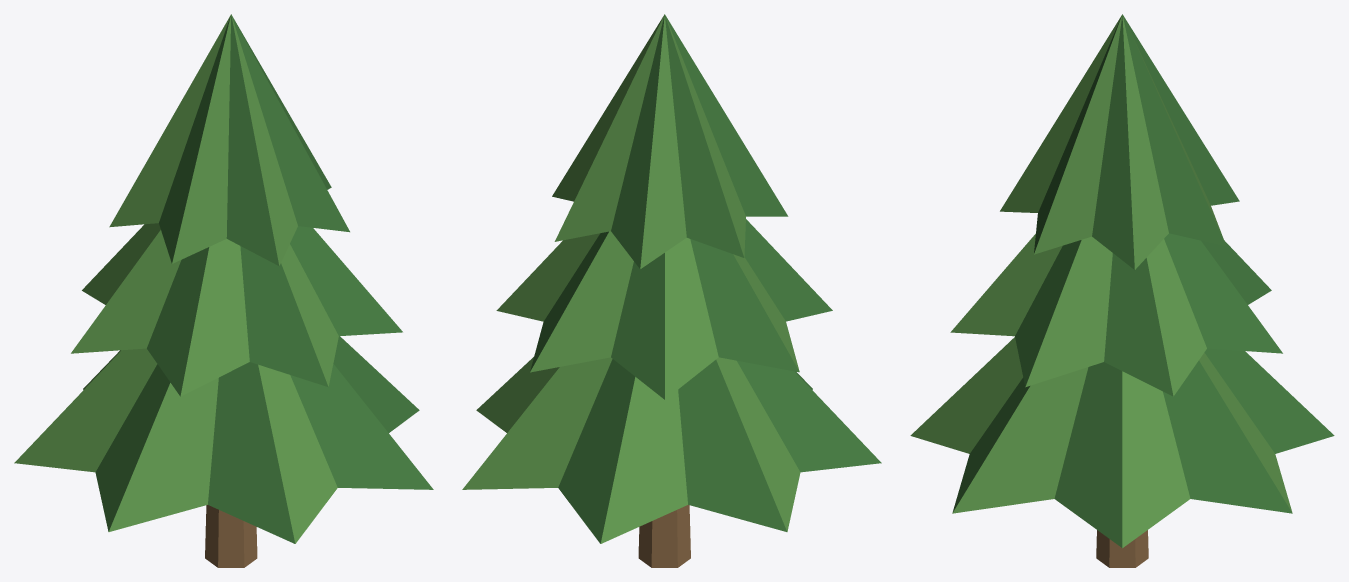
The model's file is decor_tree_pine.glb.
3 views of the same model, side by side, from view 1: azimuth 30°, elevation 25°; view 2: azimuth 150°, elevation 25°; view 3: azimuth 270°, elevation 25° (orthographic).
Parts seen in each view (by area): view 1: decor_tree_pine; view 2: decor_tree_pine; view 3: decor_tree_pine.
Part boxes in pixels (<box>): decor_tree_pine: <box>14,14,433,567</box>; decor_tree_pine: <box>462,14,881,567</box>; decor_tree_pine: <box>910,14,1334,567</box>.
Size of the model in its own units: 1.1 by 1.6 by 1.13.
